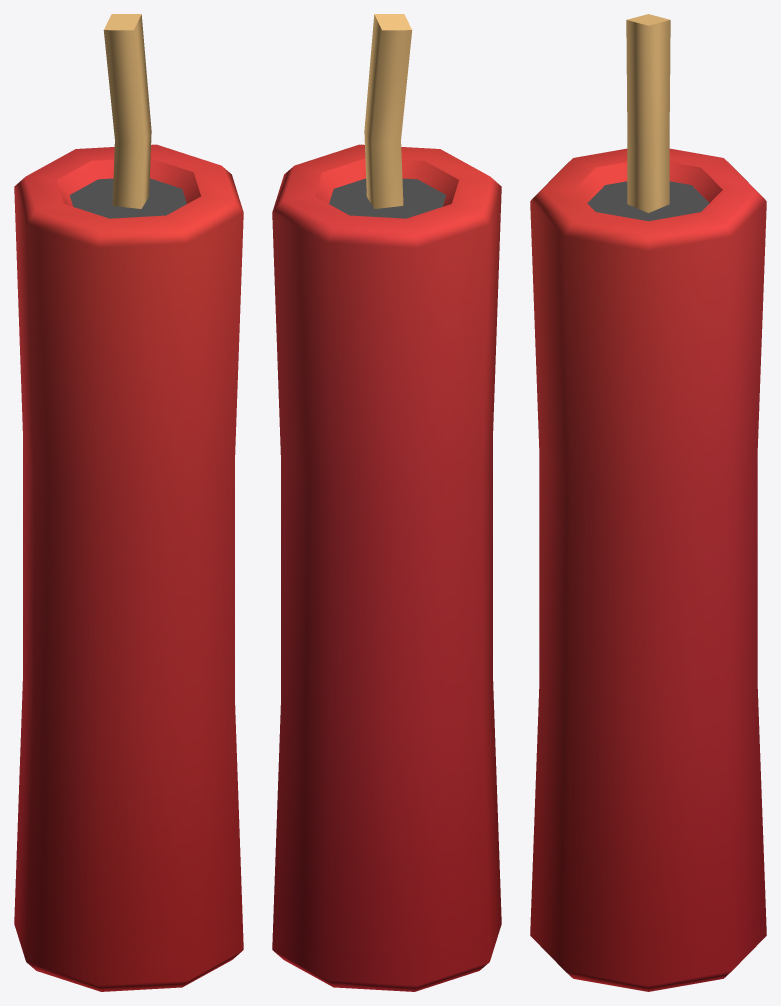
The model's file is dynamite_001.fbx.
The picture shows the model from 3 angles, left to right: view 1: azimuth 30°, elevation 25°; view 2: azimuth 150°, elevation 25°; view 3: azimuth 270°, elevation 25°; orthographic projection.
Visible parts, largest first — view 1: dynamite_001; view 2: dynamite_001; view 3: dynamite_001.
Part boxes in pixels (left/top/right/bottom): dynamite_001: left=14, top=14, right=243, bottom=991; dynamite_001: left=272, top=14, right=501, bottom=991; dynamite_001: left=530, top=14, right=766, bottom=991.
Bounding box in the file's own units: 24.08 × 24.08 × 104.
